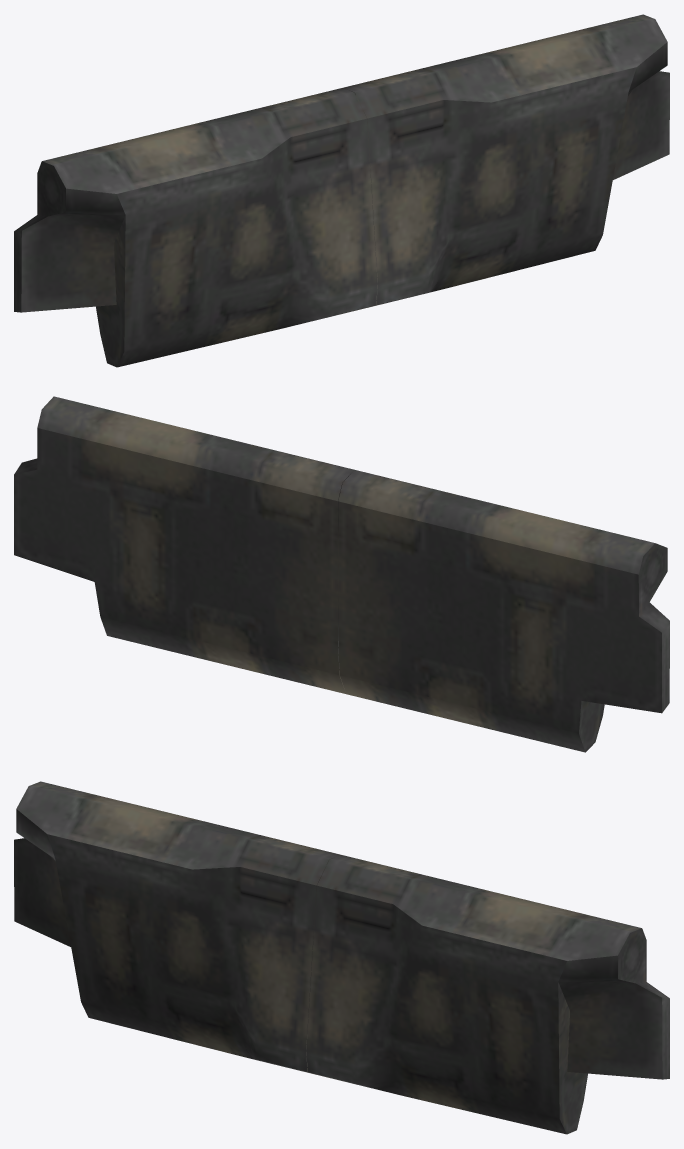
3 views of the same model, one above another, from view 1: azimuth 30°, elevation 25°; view 2: azimuth 150°, elevation 25°; view 3: azimuth 330°, elevation 25° (orthographic).
Visible parts, largest first — view 1: set_0_group_0; view 2: set_0_group_0; view 3: set_0_group_0.
Boxes of the visible parts, x1,y1,x2,y2 form: set_0_group_0: (14, 14, 669, 367); set_0_group_0: (14, 396, 669, 752); set_0_group_0: (14, 781, 669, 1134).
Size of the model in its own units: 0.6508 by 0.2095 by 0.0689.
1 material, 1 textured.
